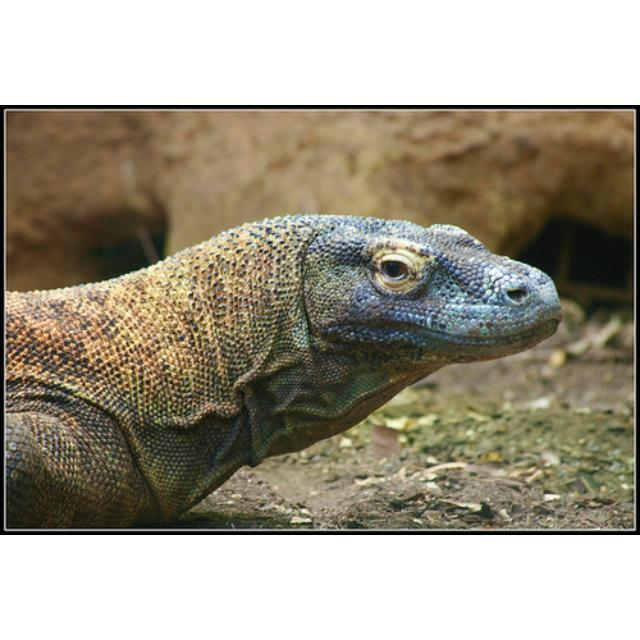KomodoDragon: (3, 212, 562, 529)
